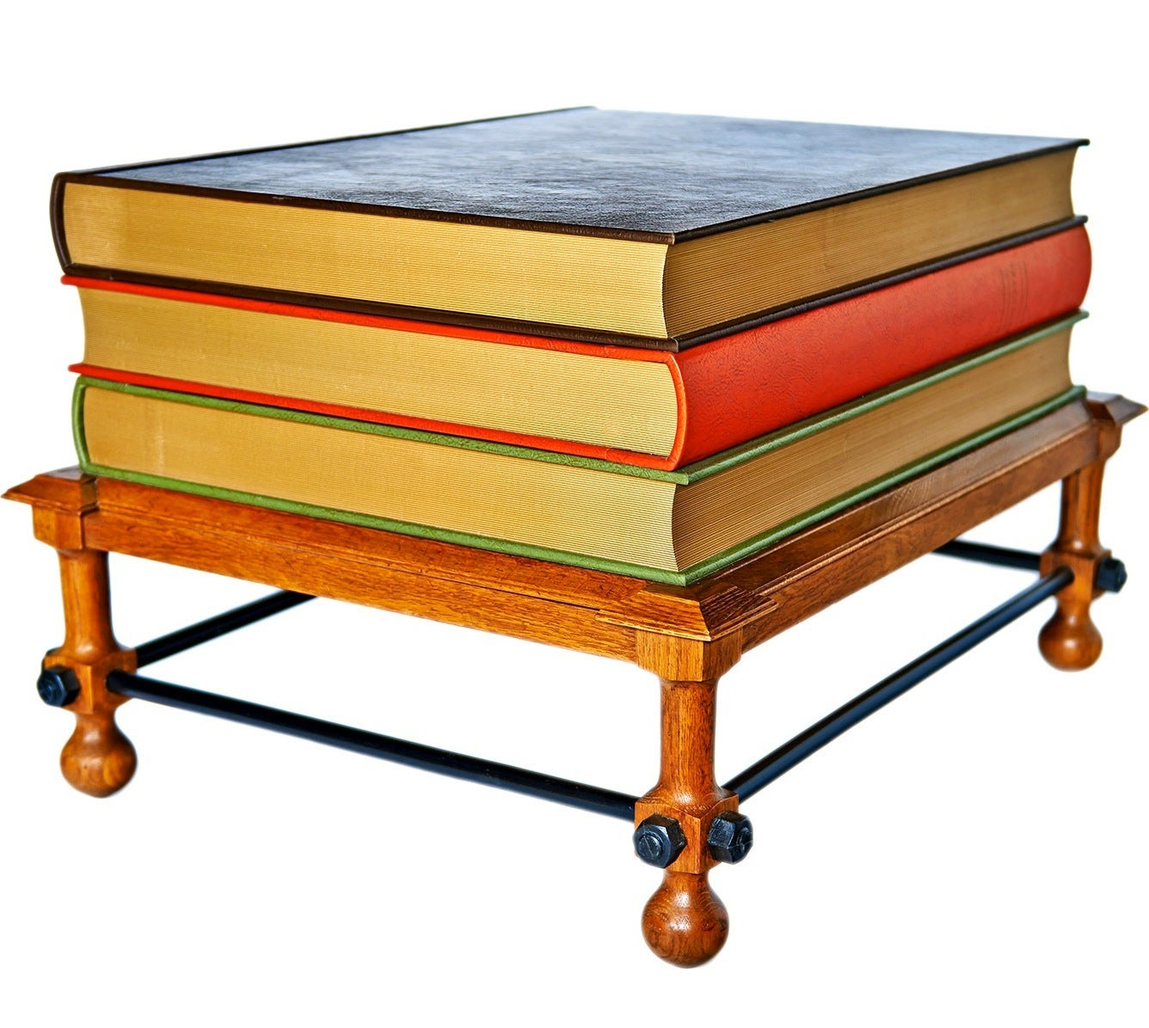not a gesture sign: (7, 393, 1140, 965)
